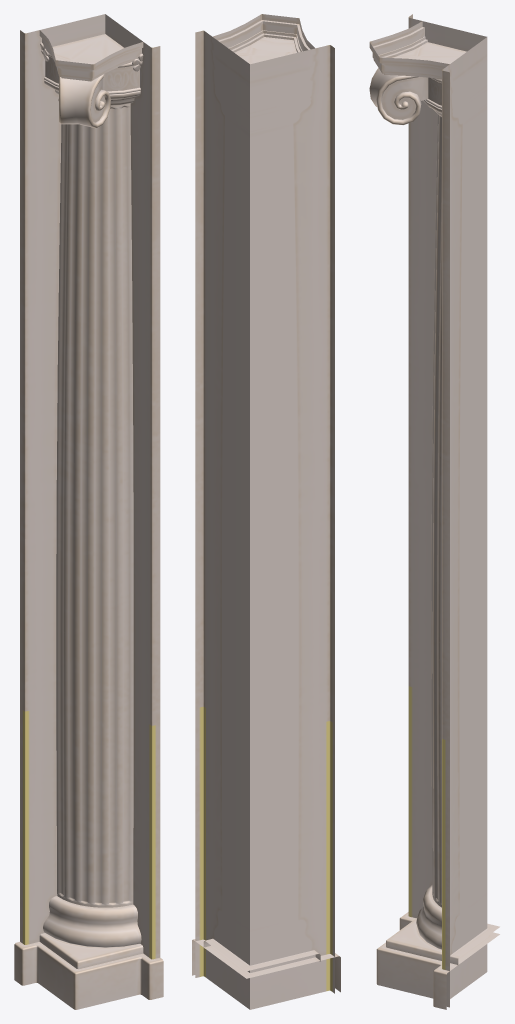
The model's file is ColumnSplittedV2.fbx.
3 renders of one model, left to right at view 1: azimuth 30°, elevation 25°; view 2: azimuth 210°, elevation 25°; view 3: azimuth 330°, elevation 25°, orthographic.
Parts seen in each view (by area): view 1: ColumnSplittedV2; view 2: ColumnSplittedV2; view 3: ColumnSplittedV2.
Boxes of the visible parts, x1,y1,x2,y2 form: ColumnSplittedV2: (14, 14, 163, 1009); ColumnSplittedV2: (192, 14, 340, 1009); ColumnSplittedV2: (369, 14, 499, 1009).
Size of the model in its own units: 32.4 by 310 by 32.4.
1 material, 1 textured.
